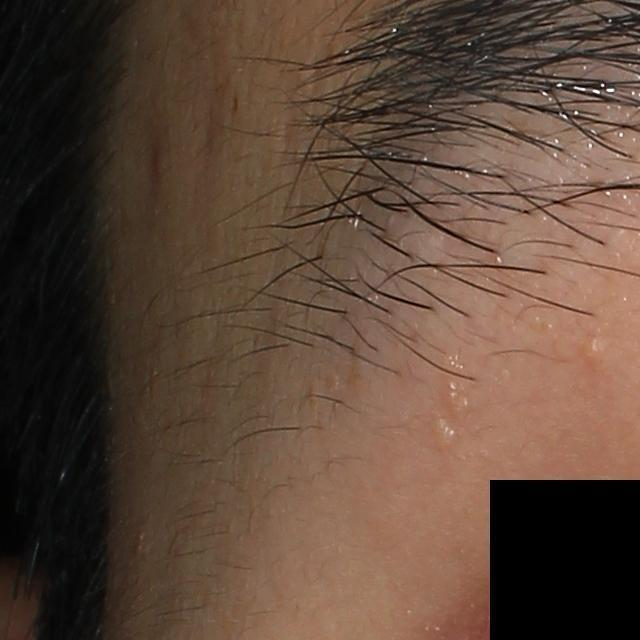comedo: (580, 340, 607, 368)
other: (427, 415, 455, 450)
